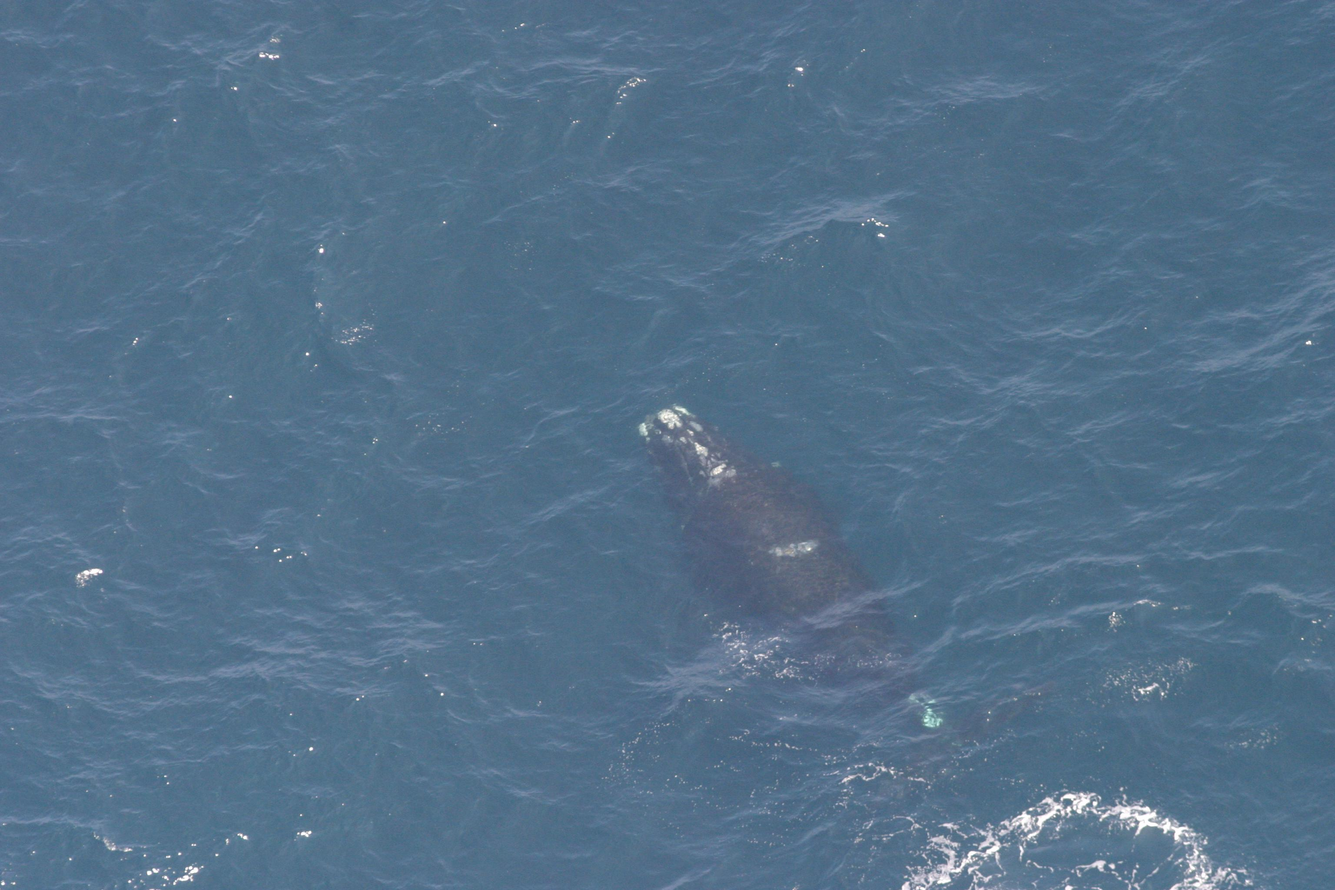whale: (630, 394, 1013, 787)
